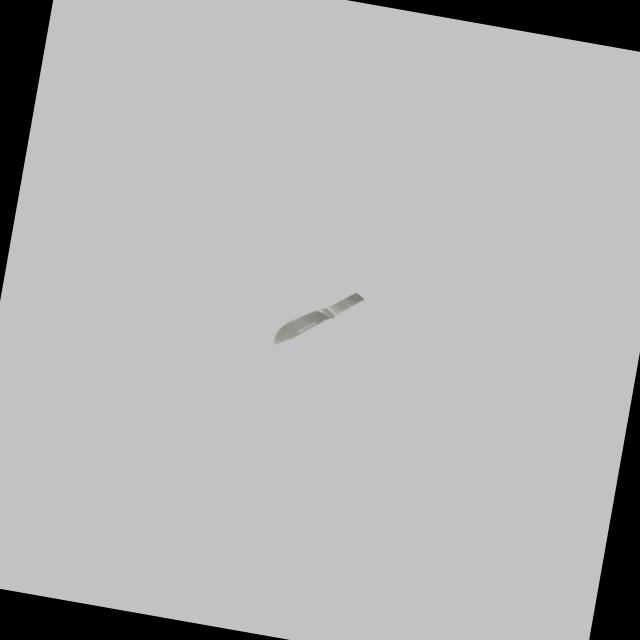knife: (321, 288, 364, 322)
